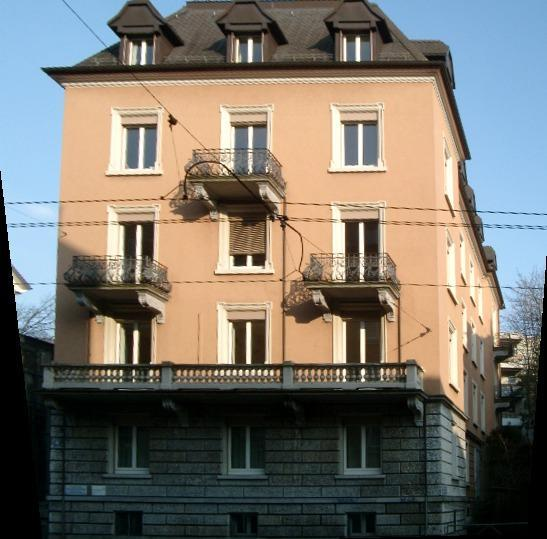window: (342, 312, 382, 382), (342, 211, 380, 283), (117, 214, 156, 284), (114, 318, 152, 382), (230, 113, 268, 175), (229, 311, 268, 371), (341, 112, 380, 169), (120, 115, 158, 171), (229, 213, 266, 270), (344, 423, 383, 477), (112, 424, 151, 477), (227, 424, 266, 477), (125, 34, 155, 66), (342, 31, 372, 62), (233, 32, 262, 63), (348, 513, 378, 538), (230, 513, 260, 538), (114, 512, 144, 537)
